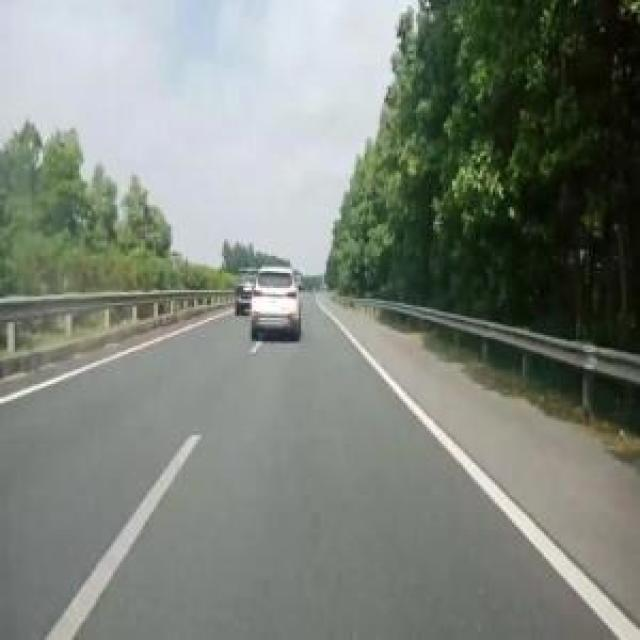clear-road: (0, 295, 640, 640)
